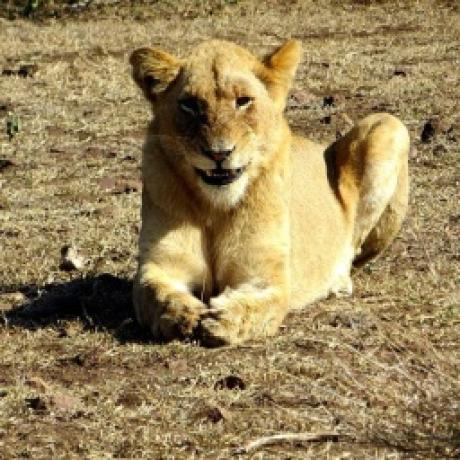Lion: (125, 32, 416, 350)
